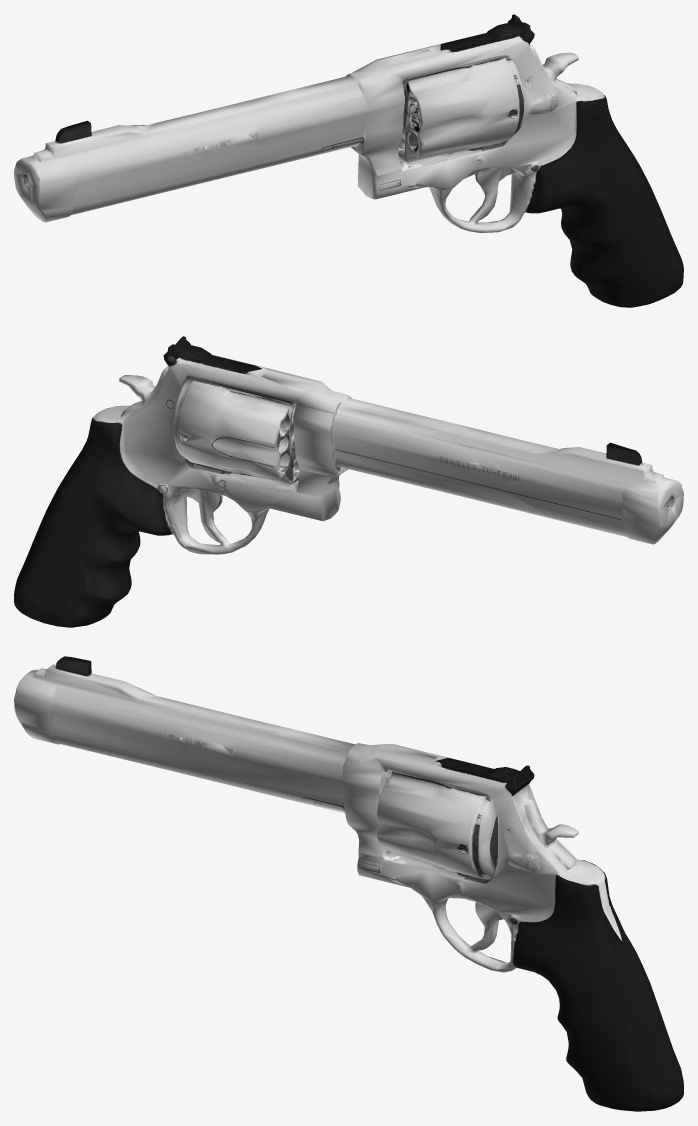
The model's file is Revolver.fbx.
3 views of the same model, one above another, from view 1: azimuth 30°, elevation 25°; view 2: azimuth 150°, elevation 25°; view 3: azimuth 330°, elevation 25° (orthographic).
Visible parts, largest first — view 1: Mesh_0; view 2: Mesh_0; view 3: Mesh_0.
Part boxes in pixels (bbox=[...]): Mesh_0: bbox=[14, 14, 683, 307]; Mesh_0: bbox=[14, 336, 683, 627]; Mesh_0: bbox=[14, 656, 683, 1111].
Bounding box in the file's own units: 191 × 85.12 × 25.47.
Materials: 1 (1 with a texture image).
